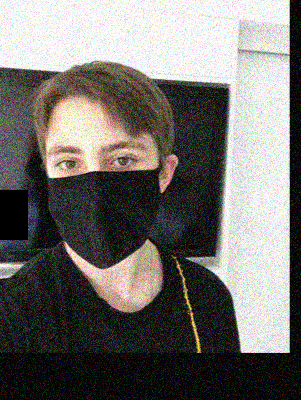with_mask: (46, 119, 161, 269)
